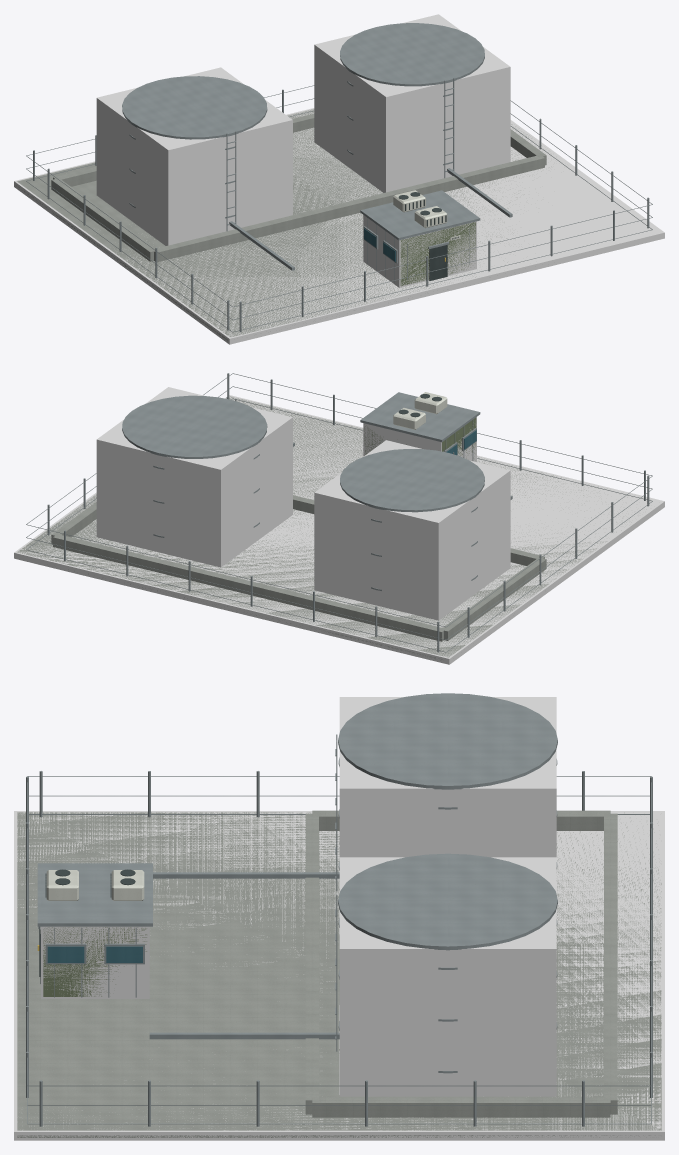
The model's file is FuelDepot.fbx.
3 views of the same model, one above another, from view 1: azimuth 30°, elevation 25°; view 2: azimuth 150°, elevation 25°; view 3: azimuth 270°, elevation 25° (orthographic). The views are drawn at different scales.
Visible parts, largest first — view 1: COL_Static, LOD0; view 2: COL_Static, LOD0; view 3: LOD0, COL_Static.
Boxes of the visible parts, x1=… form: COL_Static: x1=14, y1=14, x2=664, y2=344; LOD0: x1=16, y1=23, x2=652, y2=341; COL_Static: x1=14, y1=387, x2=664, y2=664; LOD0: x1=17, y1=373, x2=652, y2=660; LOD0: x1=17, y1=693, x2=661, y2=1137; COL_Static: x1=14, y1=697, x2=664, y2=1140.
Size of what is drawn, in the model's own units: 2800 by 660 by 2400.
